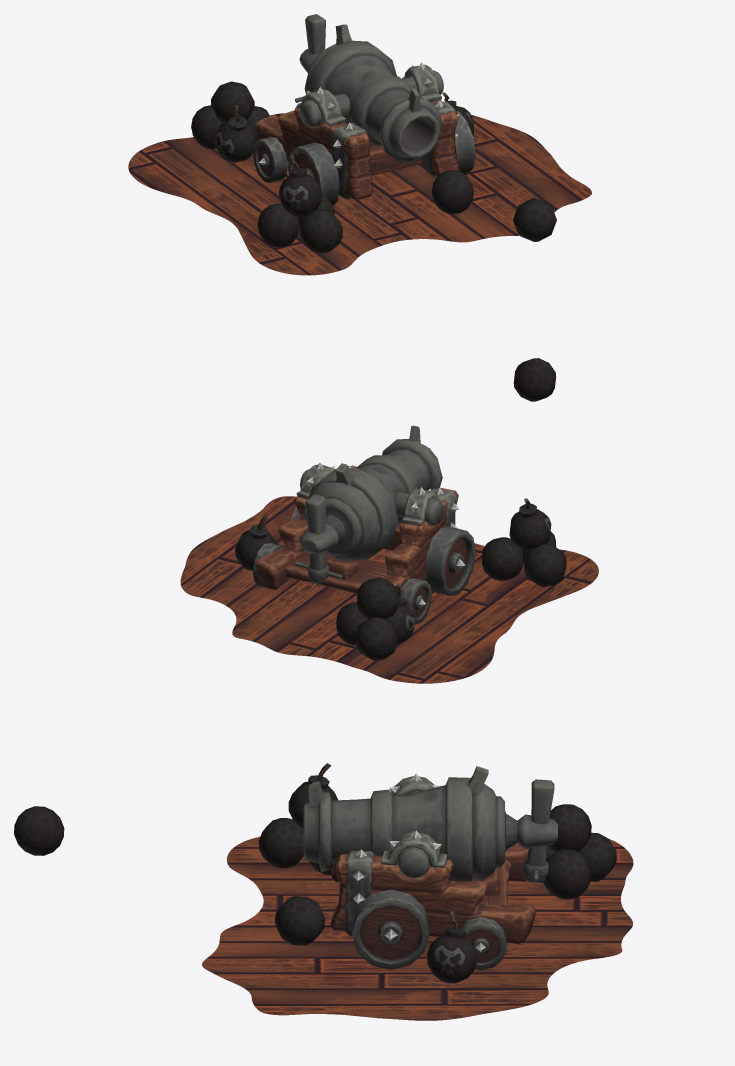
The model's file is CannonUE4Export.fbx.
The picture shows the model from 3 angles, top to bottom: view 1: azimuth 30°, elevation 25°; view 2: azimuth 150°, elevation 25°; view 3: azimuth 270°, elevation 25°; orthographic projection. The views are drawn at different scales.
Parts seen in each view (by area): view 1: Planks, CannonMain, CarriageMain, FrontWheels, CannonLocks, Bomb, Bomb2, CarriageReinforcement, Cannonball2, Cannonball, Cannonball7, Cannonball1 (+6 smaller); view 2: Planks, CannonMain, CarriageMain, FrontWheels, CarriageBase, Bomb, Cannonball7, Cannonball5, Cannonball3, Cannonball1, CannonLocks, Cannonball6 (+6 smaller); view 3: Planks, CannonMain, CarriageMain, FrontWheels, Bomb1, Cannonball7, Cannonball, Cannonball4, Cannonball2, CannonLocks, TurnScrew, RearWheels (+6 smaller).
Boxes of the visible parts, bbox=[...] form: Planks: bbox=[128, 113, 591, 275]; CannonMain: bbox=[299, 40, 442, 162]; CarriageMain: bbox=[255, 100, 460, 200]; FrontWheels: bbox=[288, 111, 475, 206]; CannonLocks: bbox=[296, 62, 441, 126]; Bomb: bbox=[279, 154, 321, 216]; Bomb2: bbox=[214, 105, 257, 162]; CarriageReinforcement: bbox=[332, 100, 459, 199]; Cannonball2: bbox=[299, 209, 342, 253]; Cannonball: bbox=[431, 170, 473, 214]; Cannonball7: bbox=[513, 198, 556, 241]; Cannonball1: bbox=[257, 203, 299, 247]; Planks: bbox=[180, 496, 598, 683]; CannonMain: bbox=[299, 439, 442, 560]; CarriageMain: bbox=[255, 465, 458, 591]; FrontWheels: bbox=[290, 506, 475, 596]; CarriageBase: bbox=[285, 552, 387, 593]; Bomb: bbox=[509, 498, 551, 550]; Cannonball7: bbox=[513, 358, 556, 401]; Cannonball5: bbox=[355, 617, 397, 660]; Cannonball3: bbox=[481, 537, 523, 580]; Cannonball1: bbox=[524, 543, 566, 587]; CannonLocks: bbox=[296, 462, 441, 525]; Cannonball6: bbox=[357, 577, 398, 619]; Planks: bbox=[202, 836, 633, 1020]; CannonMain: bbox=[303, 777, 557, 881]; CarriageMain: bbox=[330, 843, 536, 944]; FrontWheels: bbox=[352, 889, 429, 969]; Bomb1: bbox=[427, 910, 476, 983]; Cannonball7: bbox=[14, 806, 64, 855]; Cannonball: bbox=[274, 896, 325, 945]; Cannonball4: bbox=[543, 849, 591, 899]; Cannonball2: bbox=[259, 818, 303, 868]; CannonLocks: bbox=[381, 773, 447, 867]; TurnScrew: bbox=[523, 779, 554, 883]; RearWheels: bbox=[459, 917, 506, 970].
Bounding box in the file's own units: 187 × 55.17 × 222.
